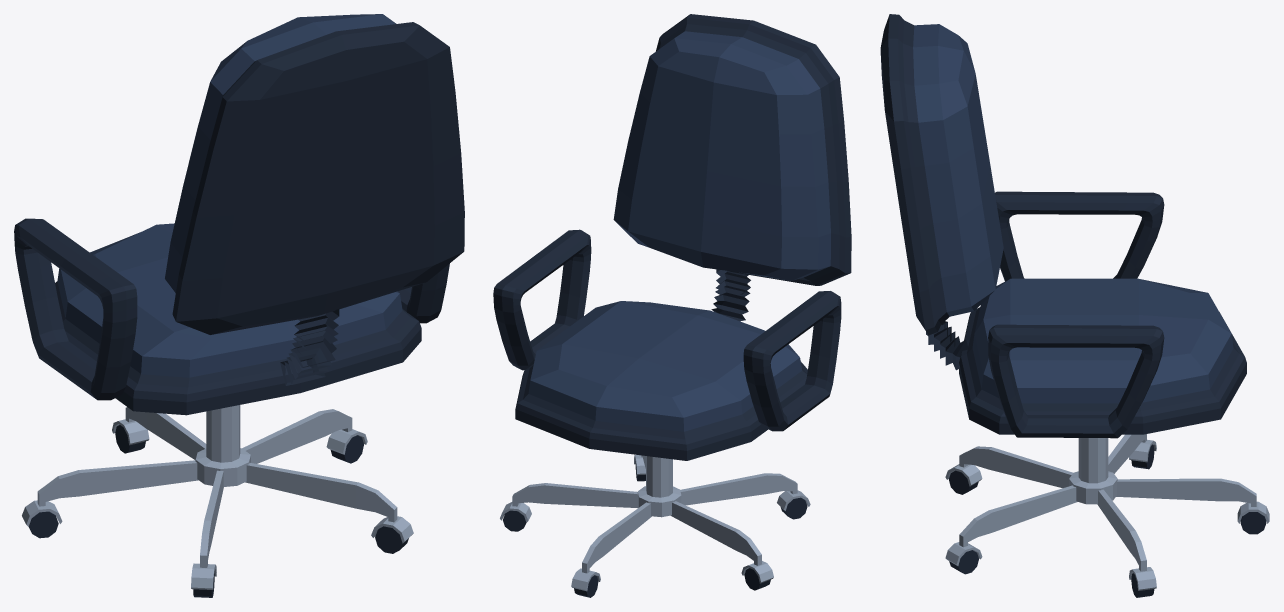
File: office_chair.glb
The picture shows the model from 3 angles, left to right: view 1: azimuth 30°, elevation 25°; view 2: azimuth 150°, elevation 25°; view 3: azimuth 270°, elevation 25°; orthographic projection. The views are drawn at different scales.
Parts seen in each view (by area): view 1: OfficeChair; view 2: OfficeChair; view 3: OfficeChair.
Boxes of the visible parts, x1,y1,x2,y2 form: OfficeChair: (14,14,464,597); OfficeChair: (493,14,851,597); OfficeChair: (880,14,1269,597).
Size of the model in its own units: 0.6912 by 1.08 by 0.7732.
